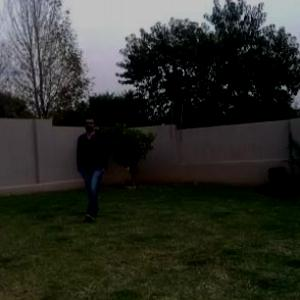follow: (77, 116, 110, 221)
